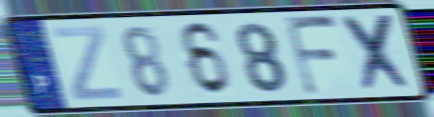6: (180, 20, 232, 99)
8: (235, 20, 289, 94), (121, 24, 172, 99)
F: (281, 14, 342, 98)
X: (339, 12, 417, 95)
Z: (50, 24, 125, 103)
